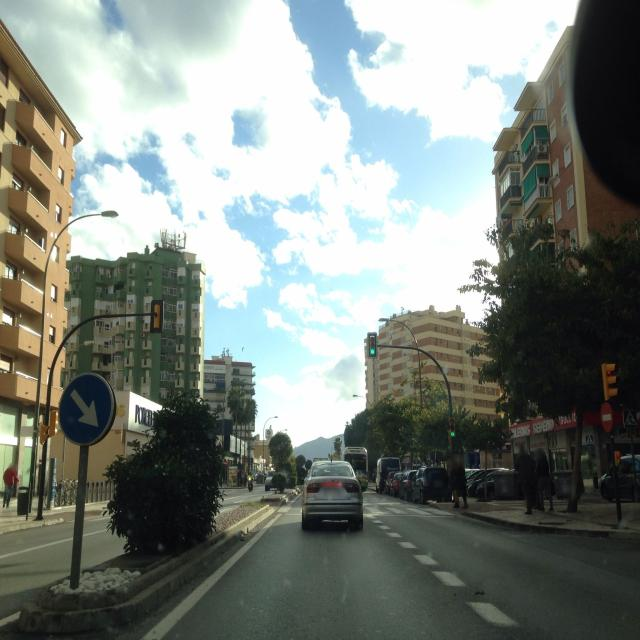car: (300, 460, 364, 531), (599, 454, 640, 504), (467, 467, 518, 500), (411, 466, 451, 504), (398, 468, 419, 501), (383, 469, 402, 496), (390, 470, 405, 498), (255, 471, 266, 484)
